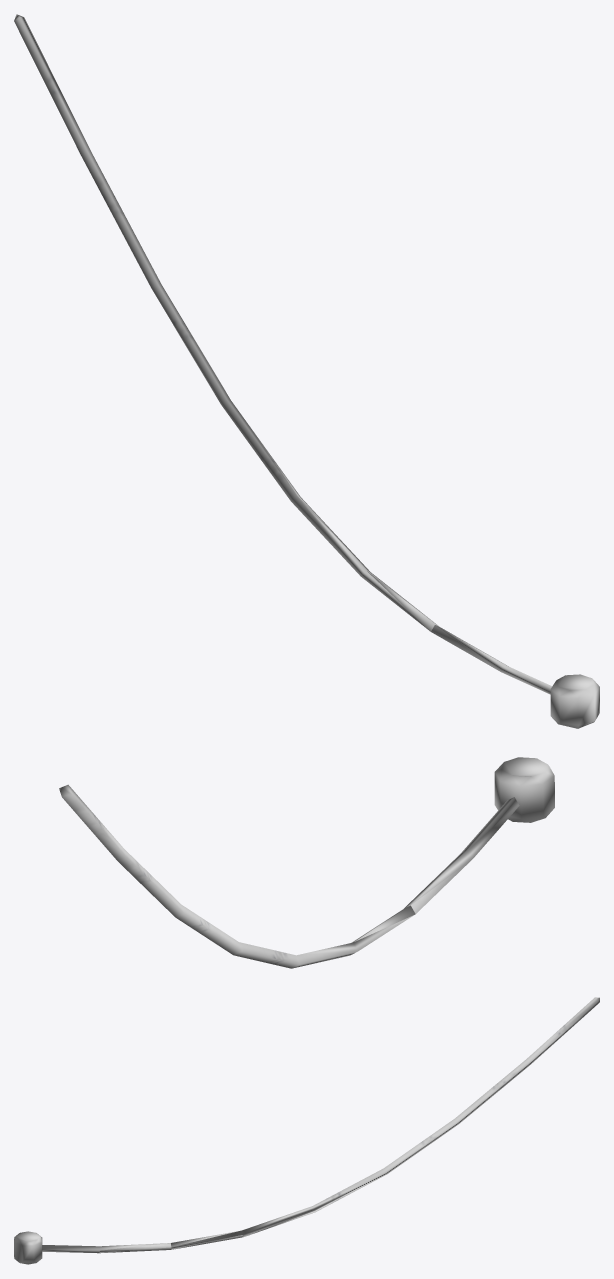
Rendered from LeftHand_C1.fbx.
3 renders of one model, top to bottom at view 1: azimuth 30°, elevation 25°; view 2: azimuth 150°, elevation 25°; view 3: azimuth 270°, elevation 25°, orthographic. The views are drawn at different scales.
Visible parts, largest first — view 1: Civ_CorreaPerro_LeftHand_C1; view 2: Civ_CorreaPerro_LeftHand_C1; view 3: Civ_CorreaPerro_LeftHand_C1.
Part boxes in pixels (left/top/right/bottom): Civ_CorreaPerro_LeftHand_C1: left=14, top=14, right=599, bottom=728; Civ_CorreaPerro_LeftHand_C1: left=59, top=757, right=554, bottom=968; Civ_CorreaPerro_LeftHand_C1: left=14, top=997, right=599, bottom=1264.
Bounding box in the file's own units: 0.4549 × 1.46 × 3.29.
